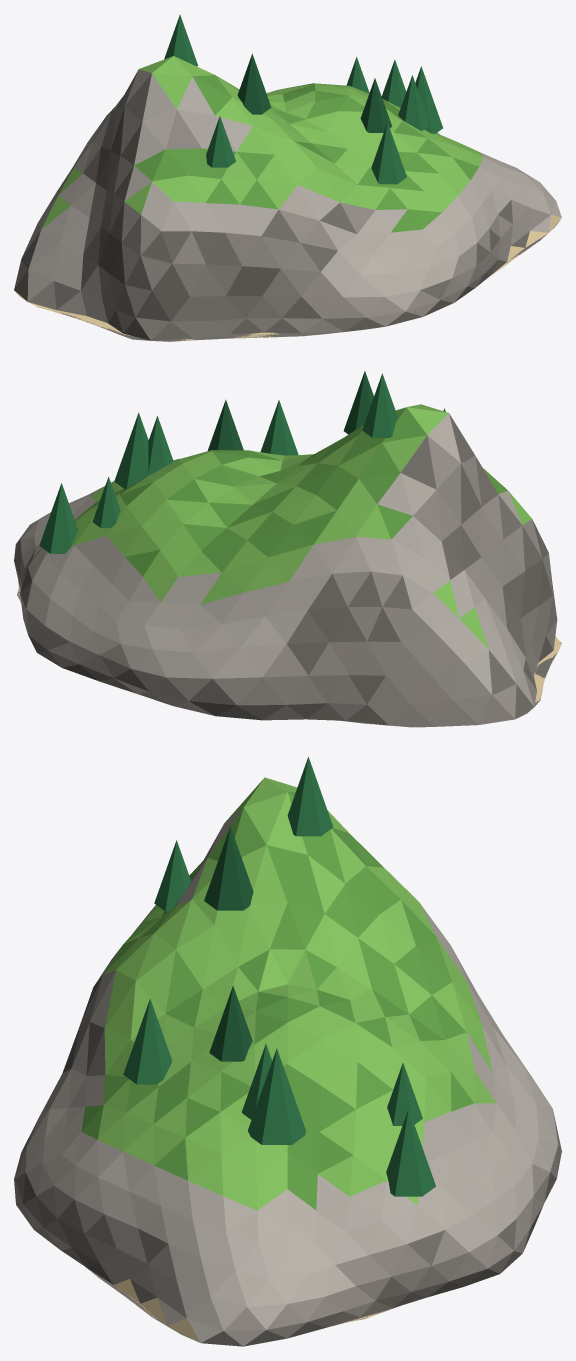
Rendered from islet-b.glb.
The picture shows the model from 3 angles, top to bottom: view 1: azimuth 30°, elevation 25°; view 2: azimuth 150°, elevation 25°; view 3: azimuth 270°, elevation 25°; orthographic projection. The views are drawn at different scales.
Visible parts, largest first — view 1: islet-b; view 2: islet-b; view 3: islet-b.
Boxes of the visible parts, x1,y1,x2,y2 form: islet-b: (14, 14, 561, 341); islet-b: (14, 371, 561, 727); islet-b: (14, 756, 561, 1346).
Bounding box in the file's own units: 84.59 × 42.38 × 59.07.
